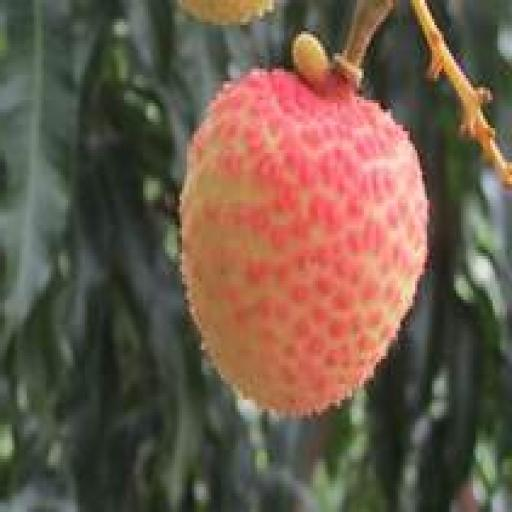lychee: (181, 72, 426, 415), (179, 0, 273, 24)
